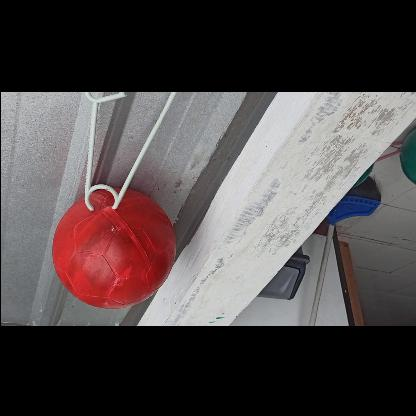red_ball: (50, 186, 174, 308)
